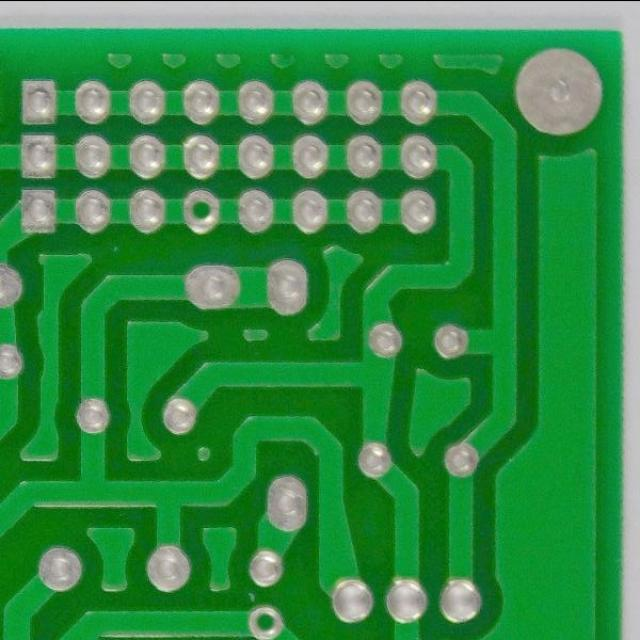missing_hole: (178, 186, 225, 236), (245, 598, 287, 639)
